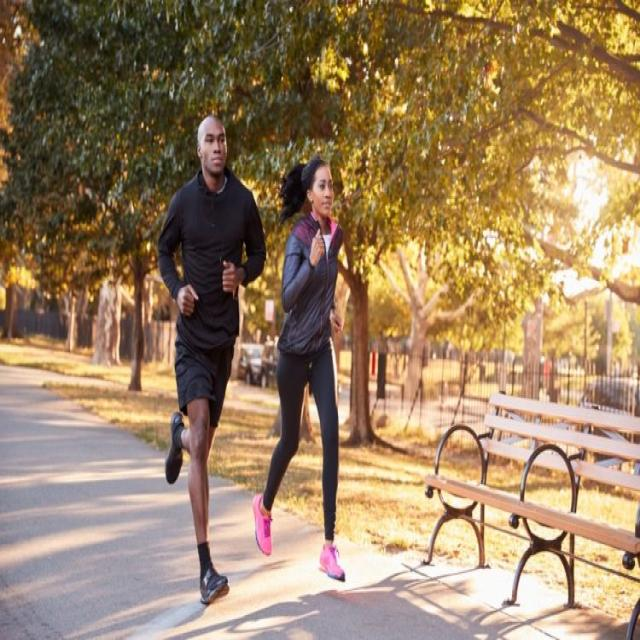Person: (157, 116, 267, 605), (254, 154, 345, 582)
